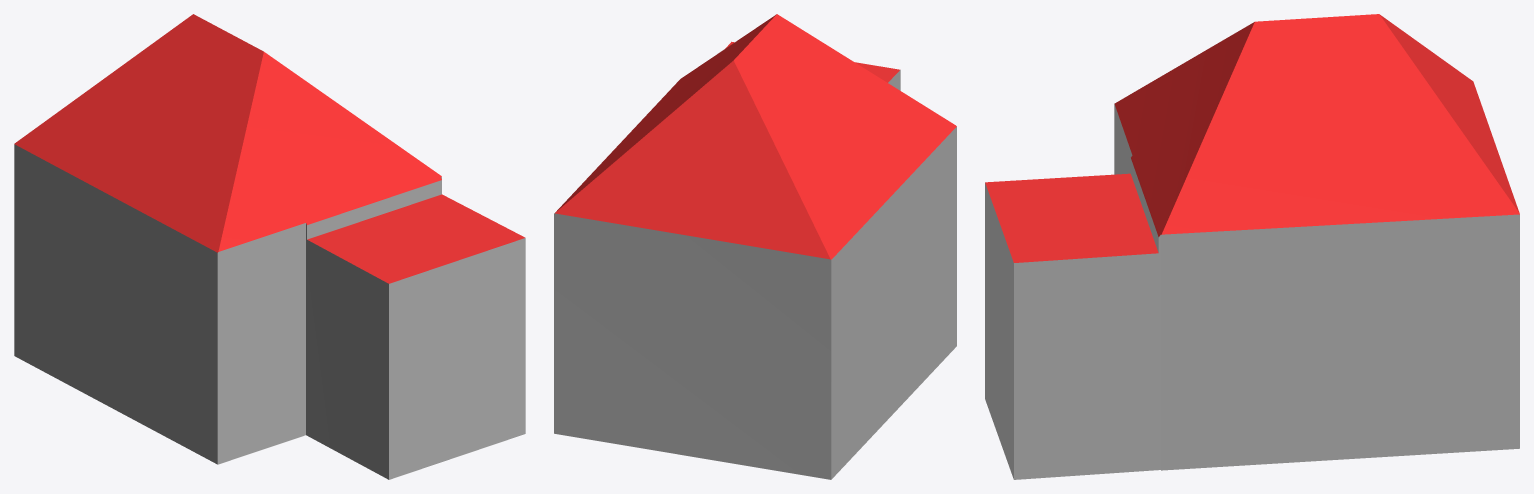
Rendered from DEBY_LOD2_4728729.dae.
3 renders of one model, left to right at view 1: azimuth 30°, elevation 25°; view 2: azimuth 150°, elevation 25°; view 3: azimuth 270°, elevation 25°, orthographic. The views are drawn at different scales.
Size of the model in its own units: 11.06 by 15.25 by 11.82.
